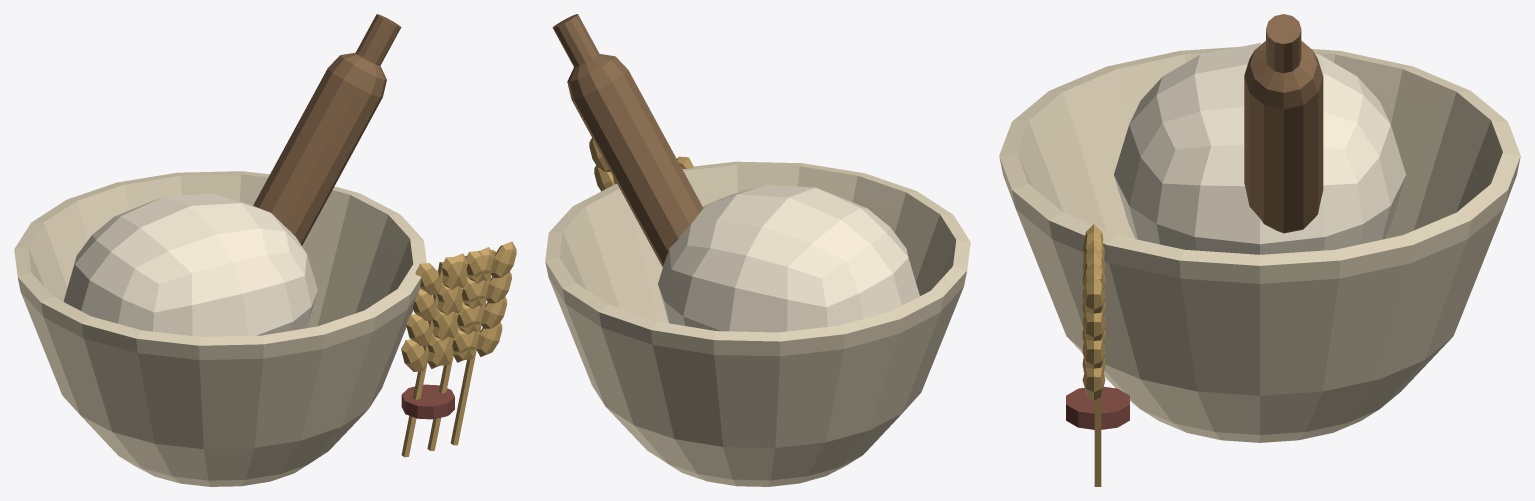
Rendered from 01_Gomsot_Baking.fbx.
3 renders of one model, left to right at view 1: azimuth 30°, elevation 25°; view 2: azimuth 150°, elevation 25°; view 3: azimuth 270°, elevation 25°, orthographic. The views are drawn at different scales.
Parts seen in each view (by area): view 1: 01_Gomsot_Baking__Body, 01_Gomsot_Baking__Dough, 01_Gomsot_Baking__Wheat, 01_Gomsot_Baking__Rolling_Pin; view 2: 01_Gomsot_Baking__Body, 01_Gomsot_Baking__Dough, 01_Gomsot_Baking__Rolling_Pin, 01_Gomsot_Baking__Wheat; view 3: 01_Gomsot_Baking__Body, 01_Gomsot_Baking__Dough, 01_Gomsot_Baking__Rolling_Pin, 01_Gomsot_Baking__Wheat.
Part boxes in pixels (x1,y1,x2,y2): 01_Gomsot_Baking__Body: (14,171,426,486); 01_Gomsot_Baking__Dough: (63,193,317,336); 01_Gomsot_Baking__Wheat: (401,241,516,457); 01_Gomsot_Baking__Rolling_Pin: (253,14,401,245); 01_Gomsot_Baking__Body: (545,161,970,486); 01_Gomsot_Baking__Dough: (658,185,919,332); 01_Gomsot_Baking__Rolling_Pin: (552,14,702,266); 01_Gomsot_Baking__Wheat: (589,138,693,191); 01_Gomsot_Baking__Body: (999,47,1520,442); 01_Gomsot_Baking__Dough: (1114,43,1405,254); 01_Gomsot_Baking__Rolling_Pin: (1244,14,1323,233); 01_Gomsot_Baking__Wheat: (1066,224,1129,486).
Size of the model in its own units: 301 by 267 by 264.
1 material, 1 textured.
